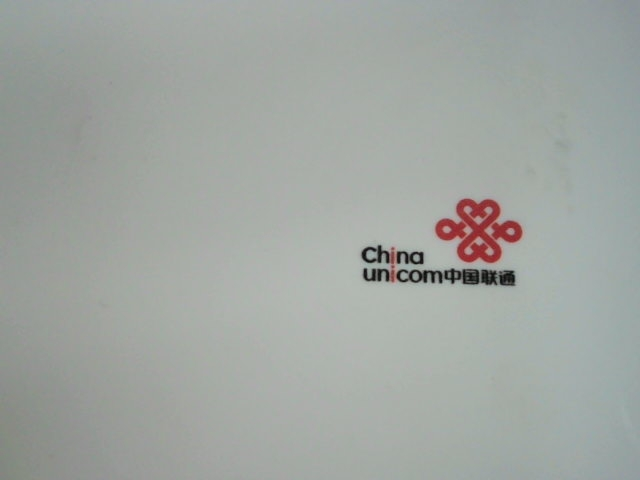ChinaUnicom1: (352, 177, 543, 301)
